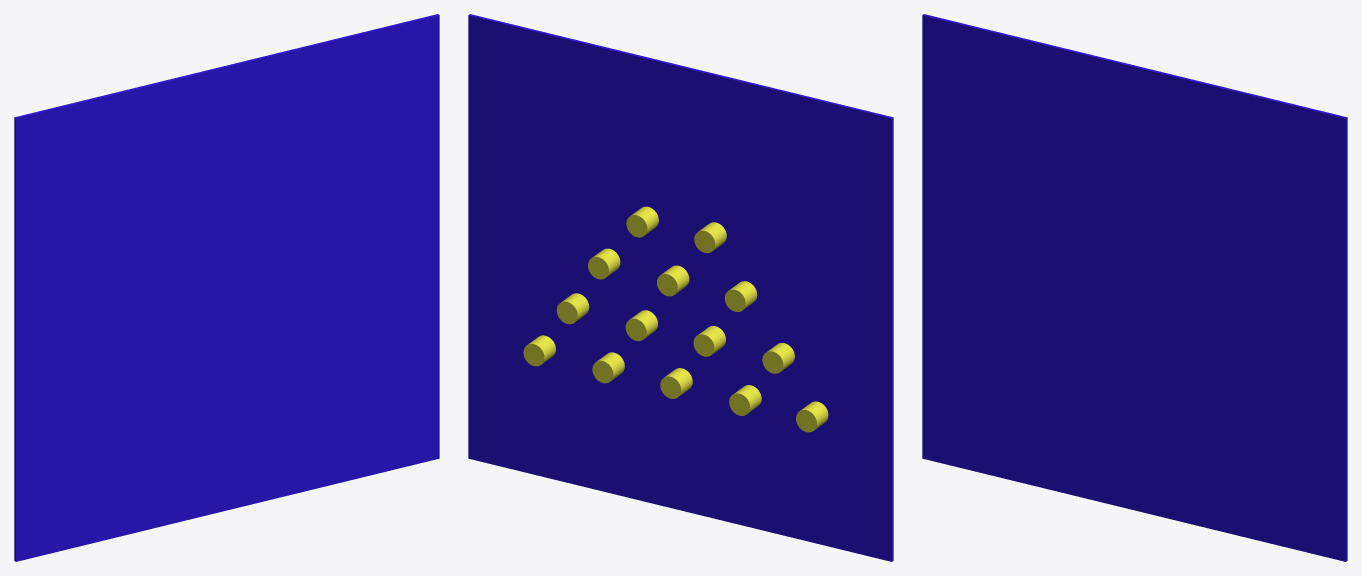
Rendered from board.gltf.
The picture shows the model from 3 angles, left to right: view 1: azimuth 30°, elevation 25°; view 2: azimuth 150°, elevation 25°; view 3: azimuth 330°, elevation 25°; orthographic projection.
Parts seen in each view (by area): view 1: Cube; view 2: Cube, Cylinder.003, Cylinder.015, Cylinder.005, Cylinder.010, Cylinder.009, Cylinder.011, Cylinder.014, Cylinder.001, Cylinder.004, Cylinder.013, Cylinder.006 (+3 smaller); view 3: Cube.
Part boxes in pixels (box(x1,y1,x2,y2)): Cube: box(14, 14, 439, 561); Cube: box(468, 14, 893, 561); Cylinder.003: box(592, 352, 624, 383); Cylinder.015: box(626, 206, 658, 237); Cylinder.005: box(796, 401, 828, 432); Cylinder.010: box(556, 293, 589, 324); Cylinder.009: box(625, 310, 657, 341); Cylinder.011: box(588, 248, 620, 279); Cylinder.014: box(694, 222, 726, 253); Cylinder.001: box(523, 335, 555, 366); Cylinder.004: box(693, 326, 725, 356); Cylinder.013: box(724, 281, 757, 311); Cylinder.006: box(729, 385, 761, 415); Cube: box(922, 14, 1347, 561).
Size of the model in its own units: 14 by 14 by 0.7568.
